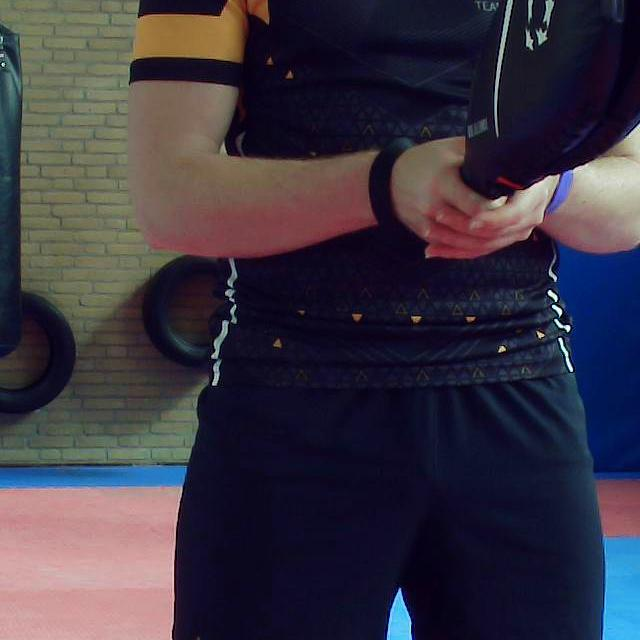paddle: (462, 0, 640, 195)
